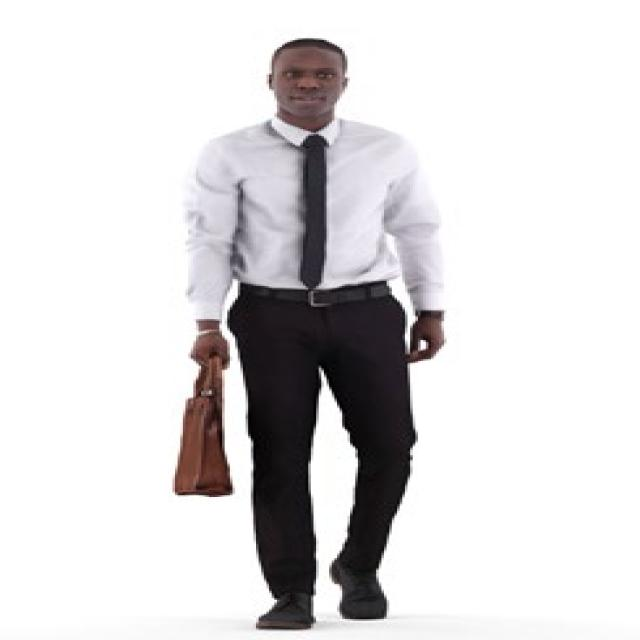standing: (182, 39, 449, 634)
